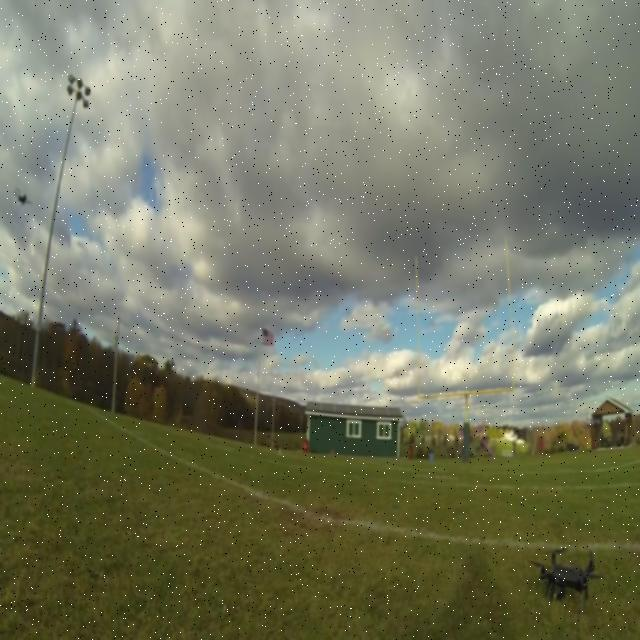UAV: (528, 548, 604, 618), (13, 187, 32, 207)
